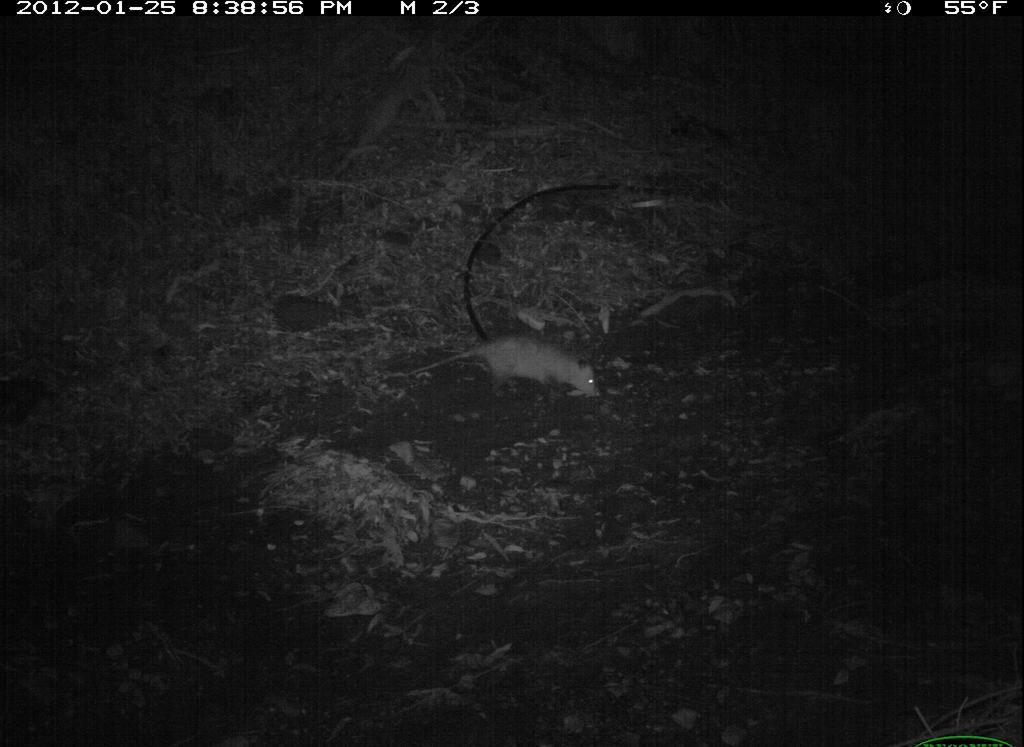opossum: (374, 331, 641, 425)
